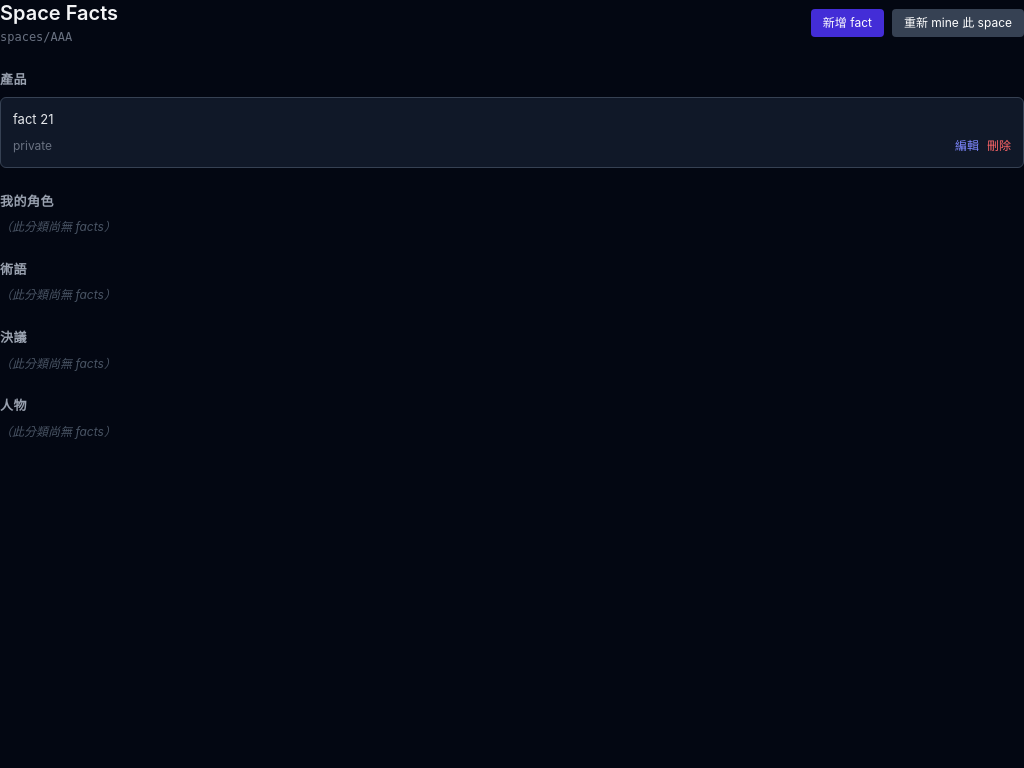
SpaceFactsDetailPage — delete fact › delete button shows confirm dialog
The image size is (1024, 768).
Click the button "刪除": coordinates (999, 146) [987,138,1011,155]
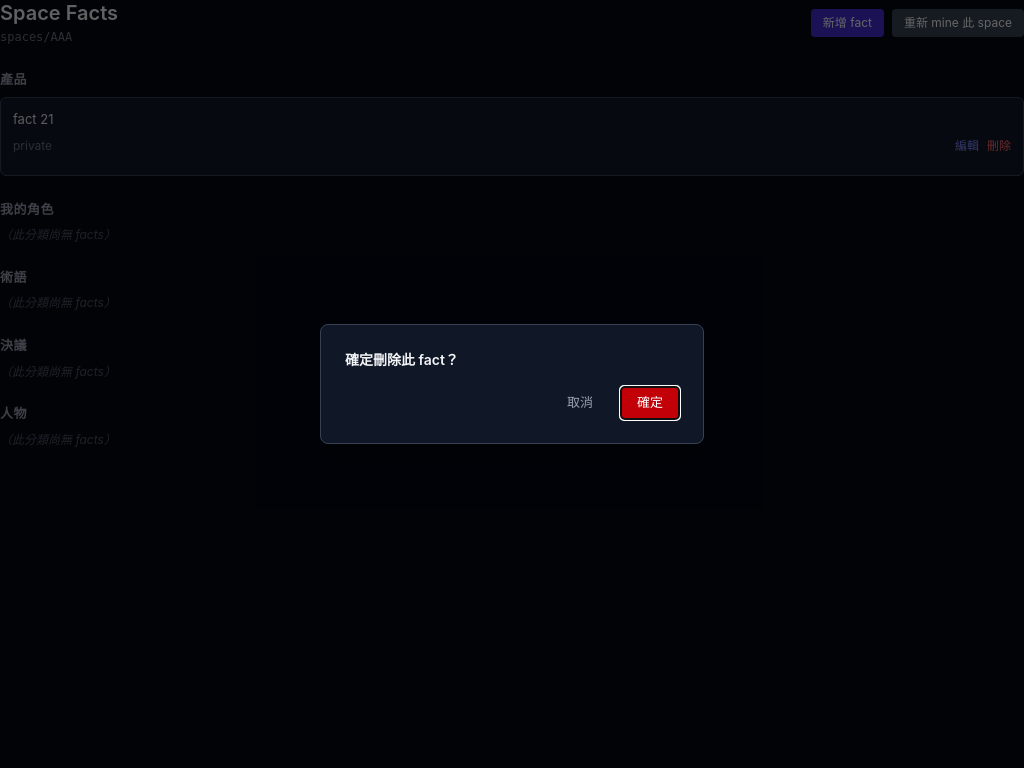
Result: the dialog is shown
Result: the heading "確定刪除此 fact？" is shown at [345,351,459,368]
